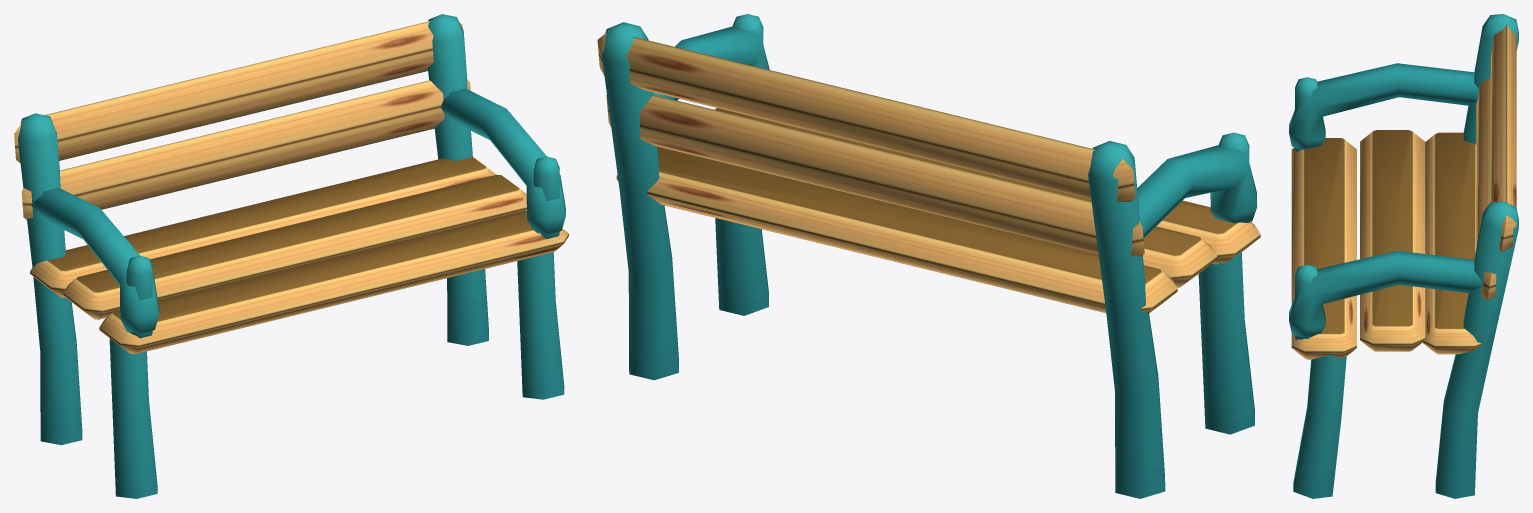
File: bench.glb
The picture shows the model from 3 angles, left to right: view 1: azimuth 30°, elevation 25°; view 2: azimuth 150°, elevation 25°; view 3: azimuth 270°, elevation 25°; orthographic projection. The views are drawn at different scales.
Parts seen in each view (by area): view 1: bench; view 2: bench; view 3: bench.
Boxes of the visible parts, x1,y1,x2,y2 form: bench: [14, 14, 568, 498]; bench: [597, 14, 1260, 498]; bench: [1289, 14, 1518, 498].
Bounding box in the file's own units: 1.72 × 1.12 × 0.808.
Materials: 1 (1 with a texture image).
